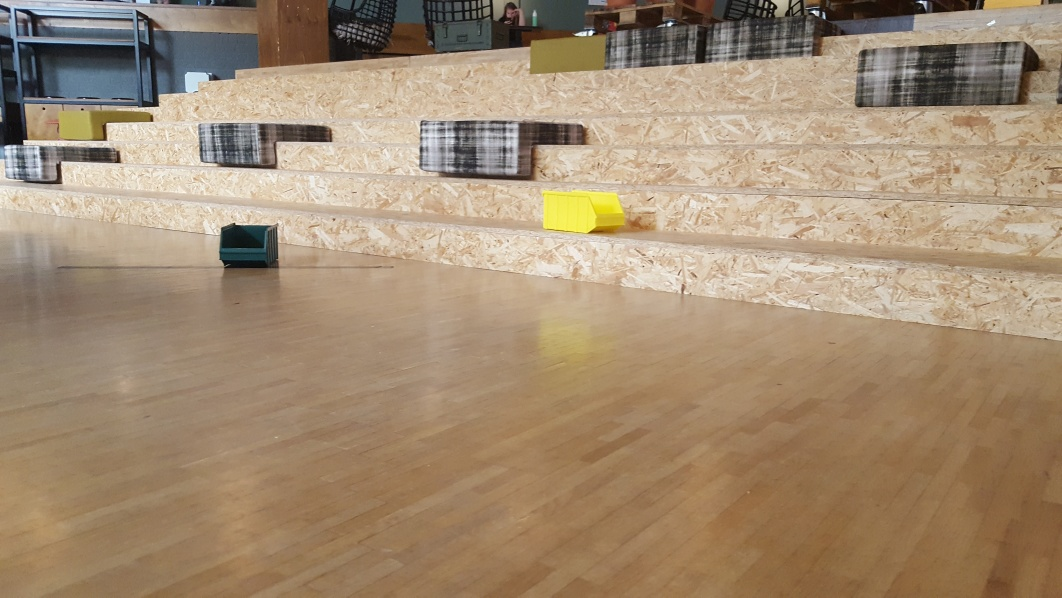tray: (541, 191, 629, 237), (217, 223, 282, 267)
